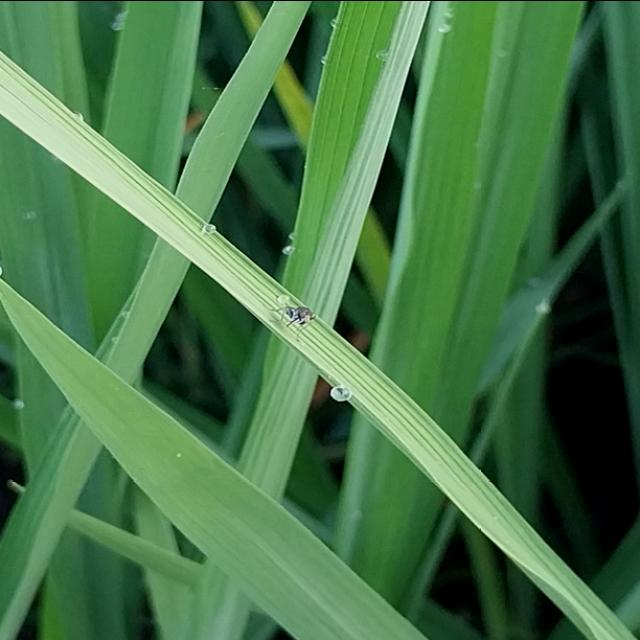healthy: (266, 294, 323, 344)
